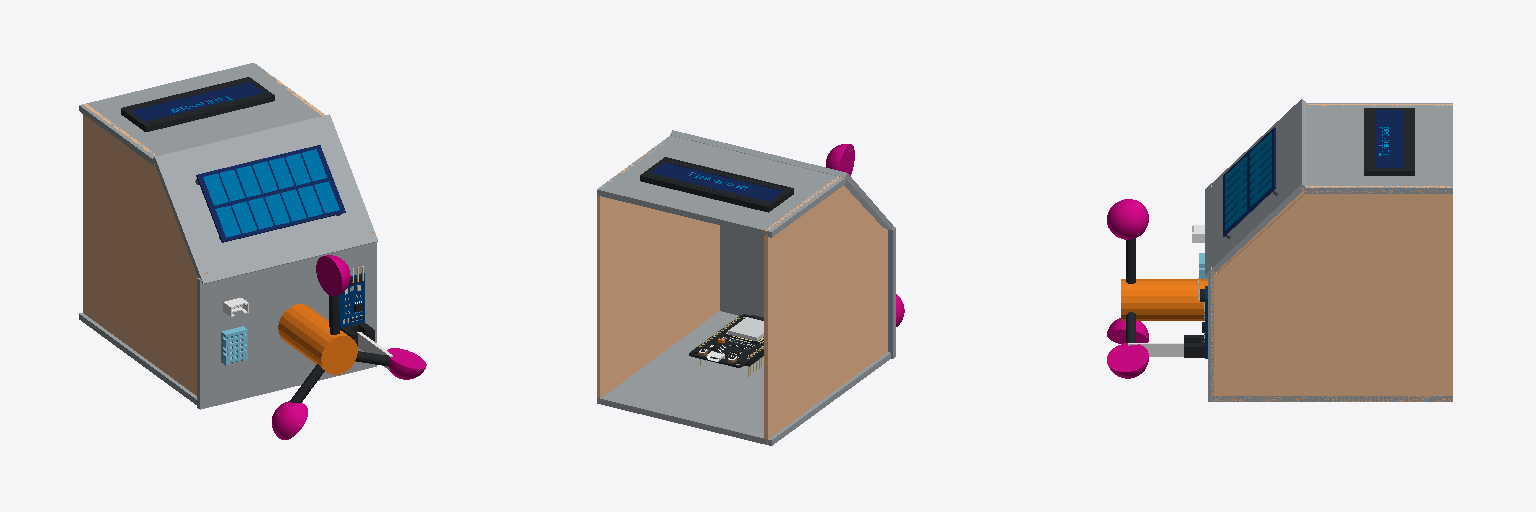
The model's file is tinker.obj.
The picture shows the model from 3 angles: view 1: azimuth 30°, elevation 25°; view 2: azimuth 150°, elevation 25°; view 3: azimuth 270°, elevation 25°; orthographic projection.
Parts seen in each view (by area): view 1: obj_3, obj_4, obj_5, obj_15, obj_2, obj_6, obj_7, obj_0, obj_16, obj_1, obj_12, obj_13 (+1 smaller); view 2: obj_3, obj_1, obj_2, obj_5, obj_6, obj_17, obj_4, obj_12; view 3: obj_3, obj_2, obj_4, obj_6, obj_15, obj_7, obj_12, obj_14, obj_1, obj_0, obj_13, obj_11 (+1 smaller).
Boxes of the visible parts, <box> form: obj_3: <box>83,66,374,395</box>; obj_4: <box>153,114,377,283</box>; obj_5: <box>197,242,376,409</box>; obj_15: <box>195,145,345,242</box>; obj_2: <box>79,63,322,165</box>; obj_6: <box>121,77,274,131</box>; obj_7: <box>278,304,357,374</box>; obj_0: <box>339,266,374,345</box>; obj_16: <box>221,298,248,365</box>; obj_1: <box>79,313,196,404</box>; obj_12: <box>316,255,350,296</box>; obj_13: <box>272,401,307,439</box>; obj_3: <box>597,141,887,444</box>; obj_1: <box>597,311,890,445</box>; obj_2: <box>597,135,845,237</box>; obj_5: <box>720,225,895,358</box>; obj_6: <box>640,157,793,212</box>; obj_17: <box>689,314,763,376</box>; obj_4: <box>670,130,893,230</box>; obj_12: <box>826,144,854,175</box>; obj_3: <box>1211,104,1452,401</box>; obj_2: <box>1304,103,1452,193</box>; obj_4: <box>1205,99,1305,278</box>; obj_6: <box>1364,108,1414,175</box>; obj_15: <box>1223,127,1279,238</box>; obj_7: <box>1121,279,1207,320</box>; obj_12: <box>1107,199,1148,239</box>; obj_14: <box>1107,343,1148,378</box>; obj_1: <box>1211,396,1452,401</box>; obj_0: <box>1184,278,1207,358</box>; obj_13: <box>1107,318,1148,343</box>; obj_11: <box>1128,343,1183,356</box>.
Size of the model in its own units: 100 by 119 by 163.